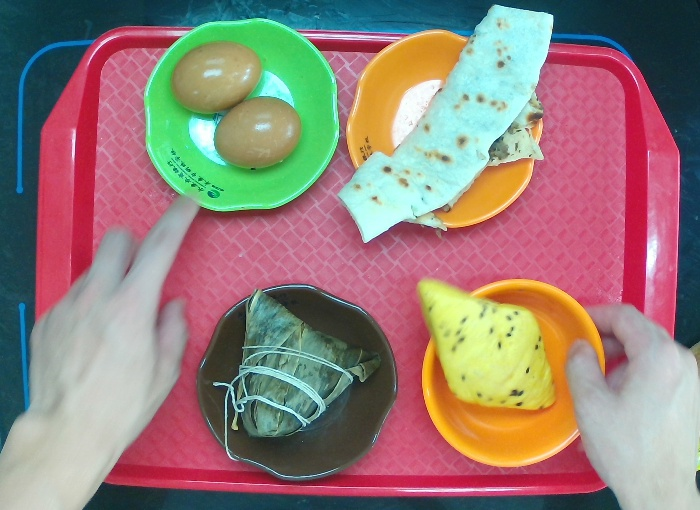YKMZ-Ju_Se_Ao_Bian_Wan: (337, 22, 546, 232)
YKMZ-Ju_Se_Yuan_Wan: (412, 273, 610, 470)
YKMZ-Ka_Fei_Ao_Bian_Wan: (187, 274, 404, 483)
YKMZ-Lv_Se_Ao_Bian_Wan: (138, 13, 342, 225)
